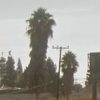Palm tree: (21, 9, 76, 90)
